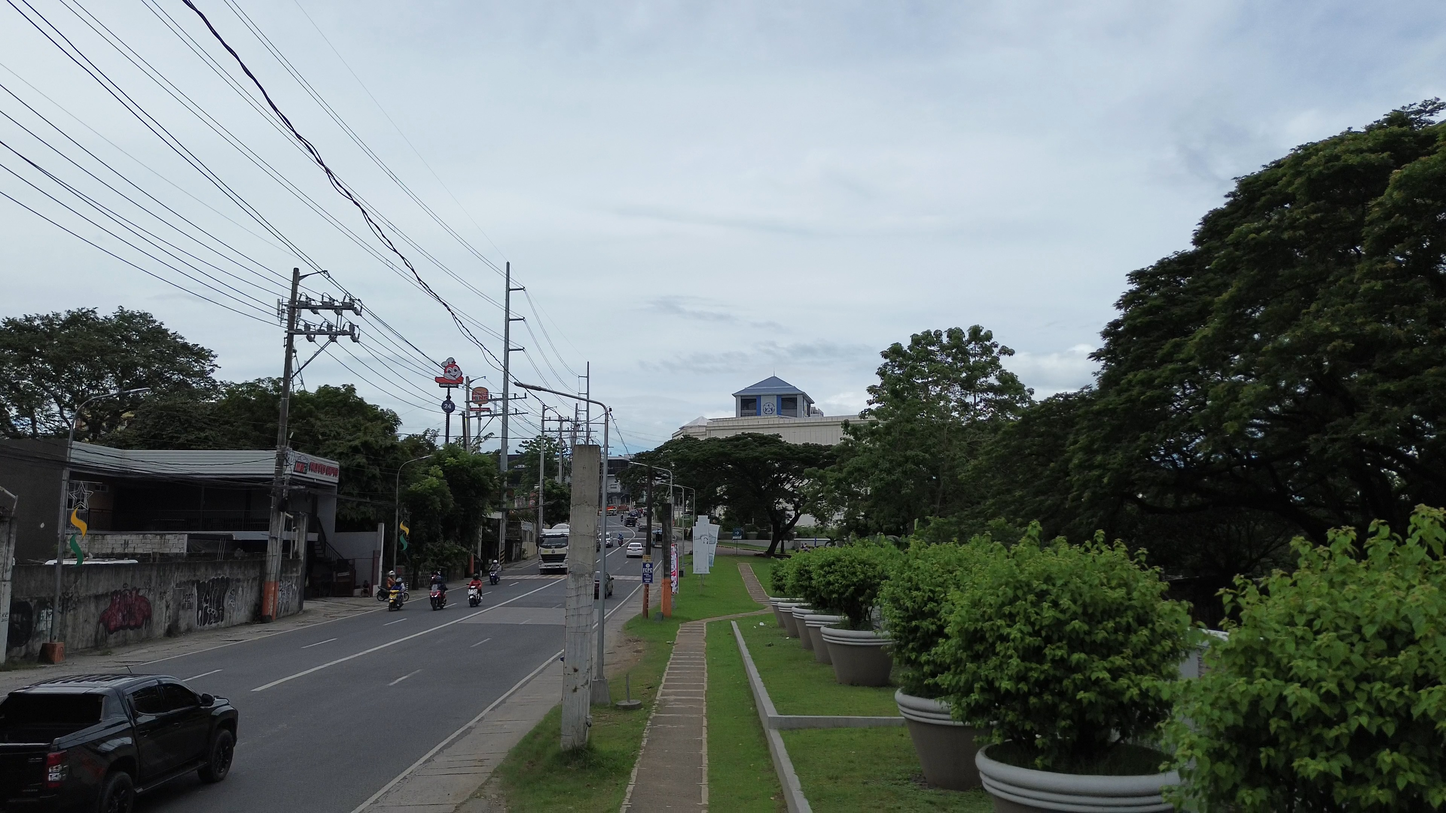motorcycle: (389, 585, 407, 611), (430, 587, 445, 610), (467, 585, 482, 607), (488, 567, 499, 585)
vehicle: (0, 674, 238, 813), (538, 525, 569, 573), (388, 583, 409, 611), (429, 587, 446, 610), (625, 541, 644, 558), (489, 567, 500, 585), (623, 515, 637, 527), (606, 574, 613, 597)
